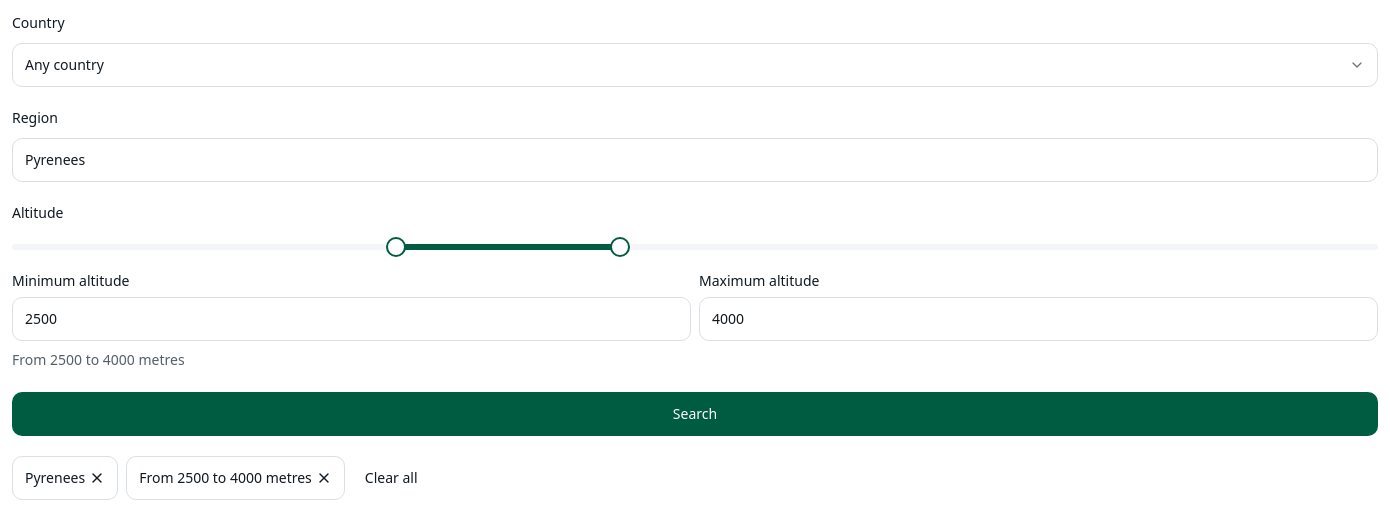
PeakFilters › peakFilters_clearAll_alsoEmptiesTheRegionAndAltitudeControls
The width and height of the screenshot is (1390, 521).
In the field labelled "Region": [695, 160] box [12,138,1378,182], type " north"
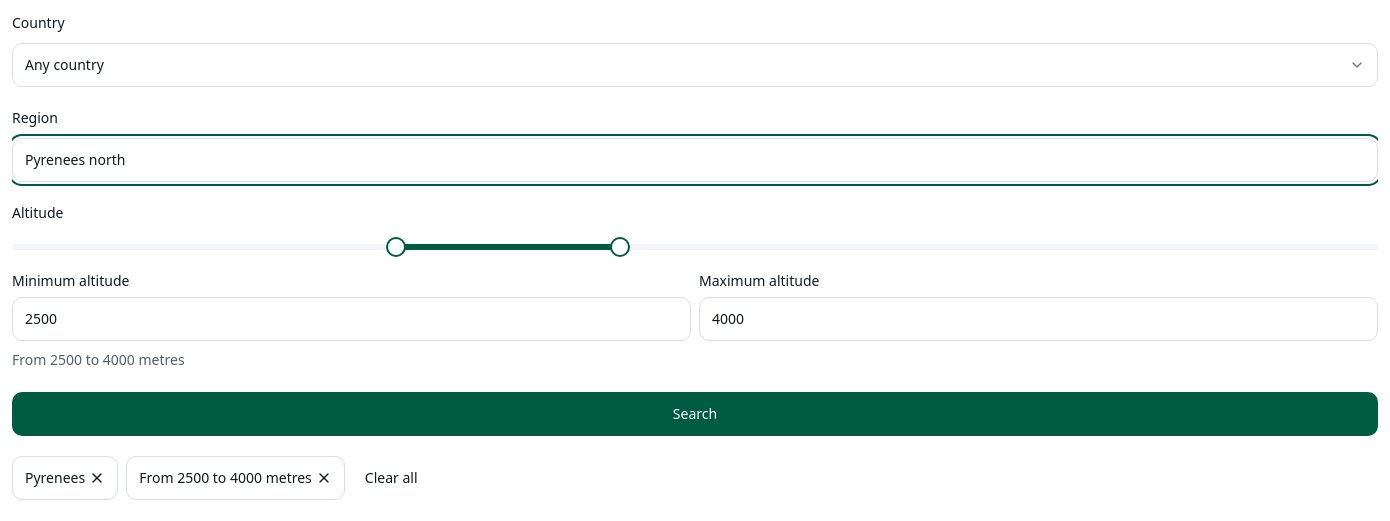
Click the button "Clear all": [391, 478] box [353,456,430,500]
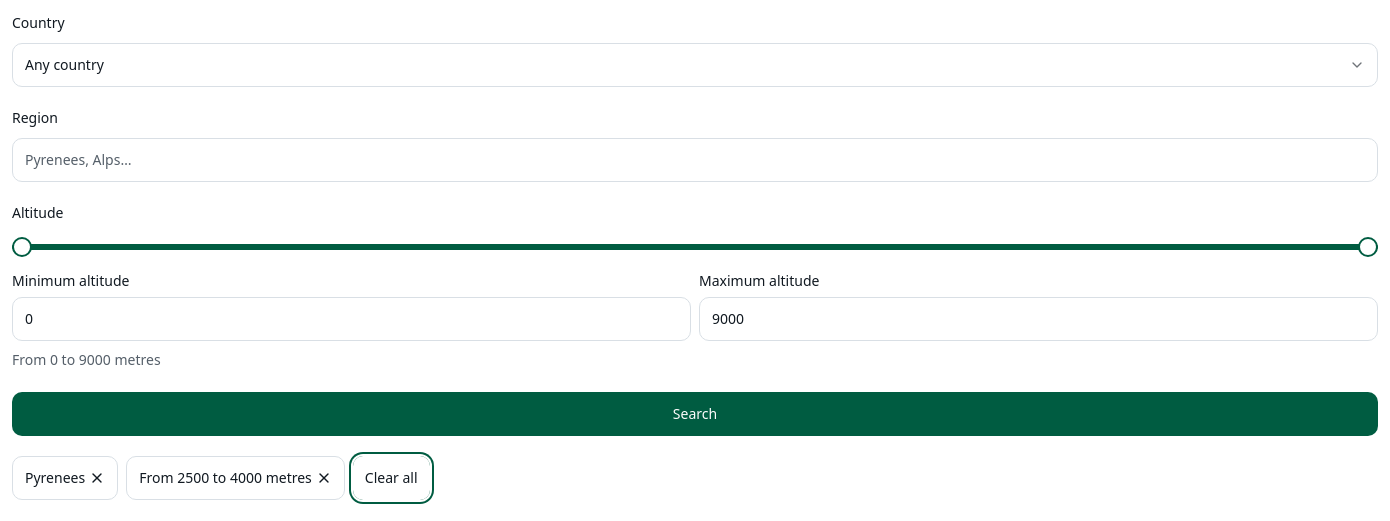
Expected: the field labelled "Region" is empty, [12,138,1378,182]
Expected: the number field labelled "Minimum altitude" holds "0", [12,297,691,341]
Expected: the number field labelled "Maximum altitude" holds "9000", [699,297,1378,341]
